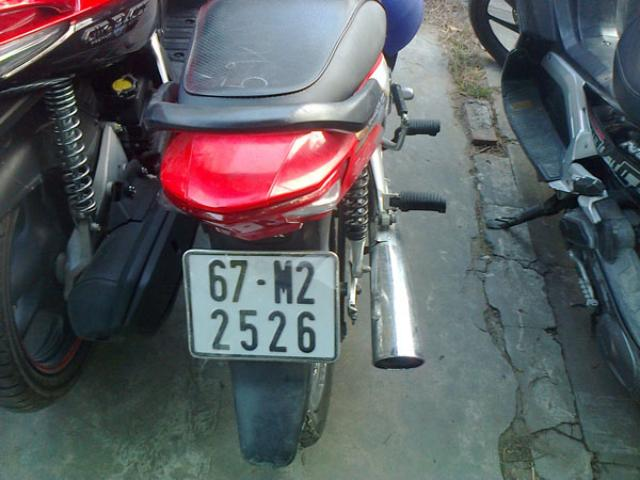plate: (188, 252, 334, 360)
